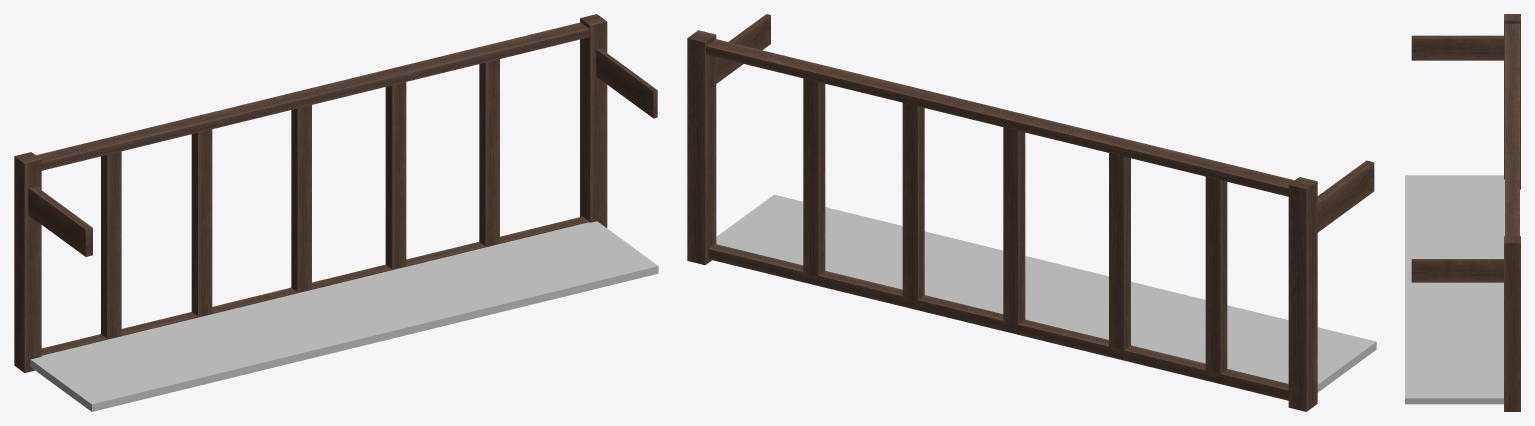
File: windowflameout02a.fbx
3 renders of one model, left to right at view 1: azimuth 30°, elevation 25°; view 2: azimuth 150°, elevation 25°; view 3: azimuth 270°, elevation 25°, orthographic. The views are drawn at different scales.
Parts seen in each view (by area): view 1: windowflameout02a; view 2: windowflameout02a; view 3: windowflameout02a.
Part boxes in pixels (x1,y1,x2,y2): windowflameout02a: [14, 14, 658, 411]; windowflameout02a: [687, 14, 1376, 411]; windowflameout02a: [1405, 14, 1520, 411].
Size of the model in its own units: 171 by 58.9 by 36.57.
